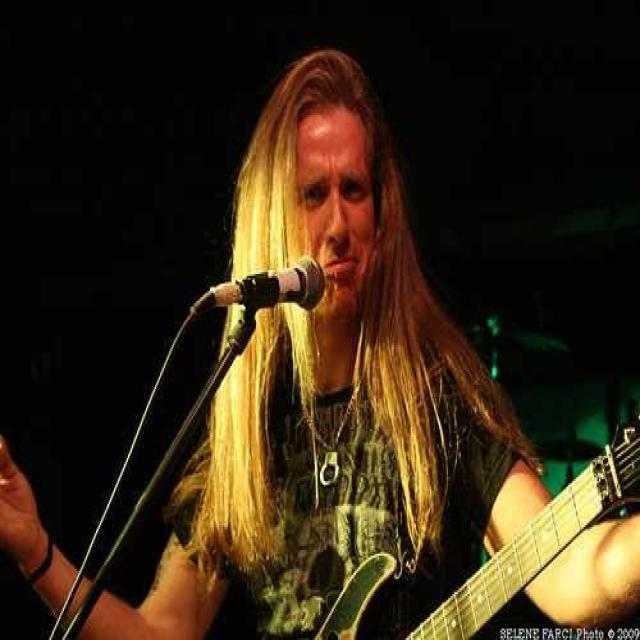microphone: (198, 255, 325, 316)
